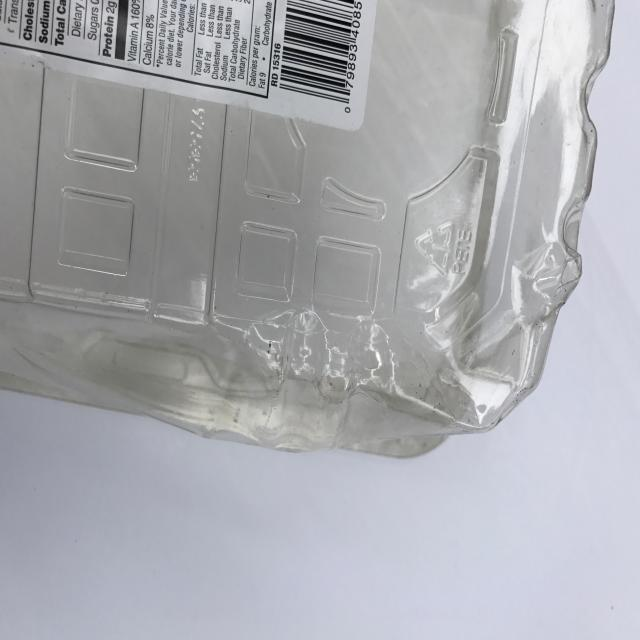plastic: (0, 0, 614, 458)
